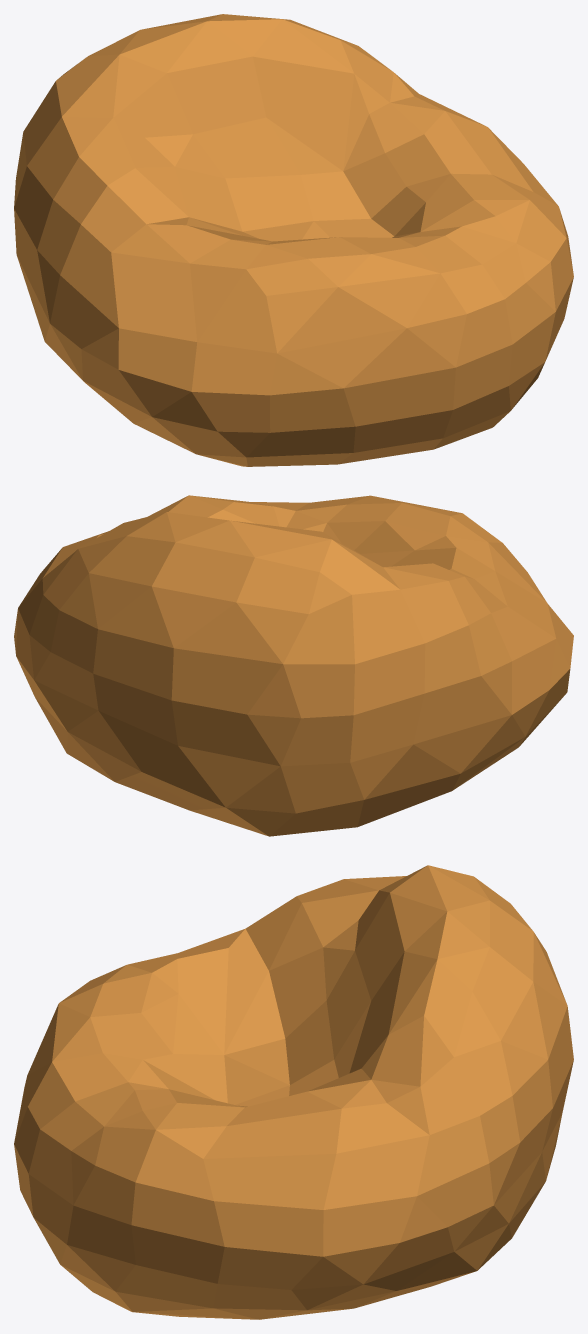
The model's file is scene_kfNAS8c51P.glb.
The picture shows the model from 3 angles, top to bottom: view 1: azimuth 30°, elevation 25°; view 2: azimuth 150°, elevation 25°; view 3: azimuth 270°, elevation 25°; orthographic projection. The views are drawn at different scales.
Parts seen in each view (by area): view 1: Cube_Cube.007; view 2: Cube_Cube.007; view 3: Cube_Cube.007.
Boxes of the visible parts, bbox=[...] form: Cube_Cube.007: bbox=[14, 14, 573, 466]; Cube_Cube.007: bbox=[14, 495, 573, 836]; Cube_Cube.007: bbox=[14, 865, 573, 1319].
Size of the model in its own units: 1.1 by 0.7107 by 1.03.
